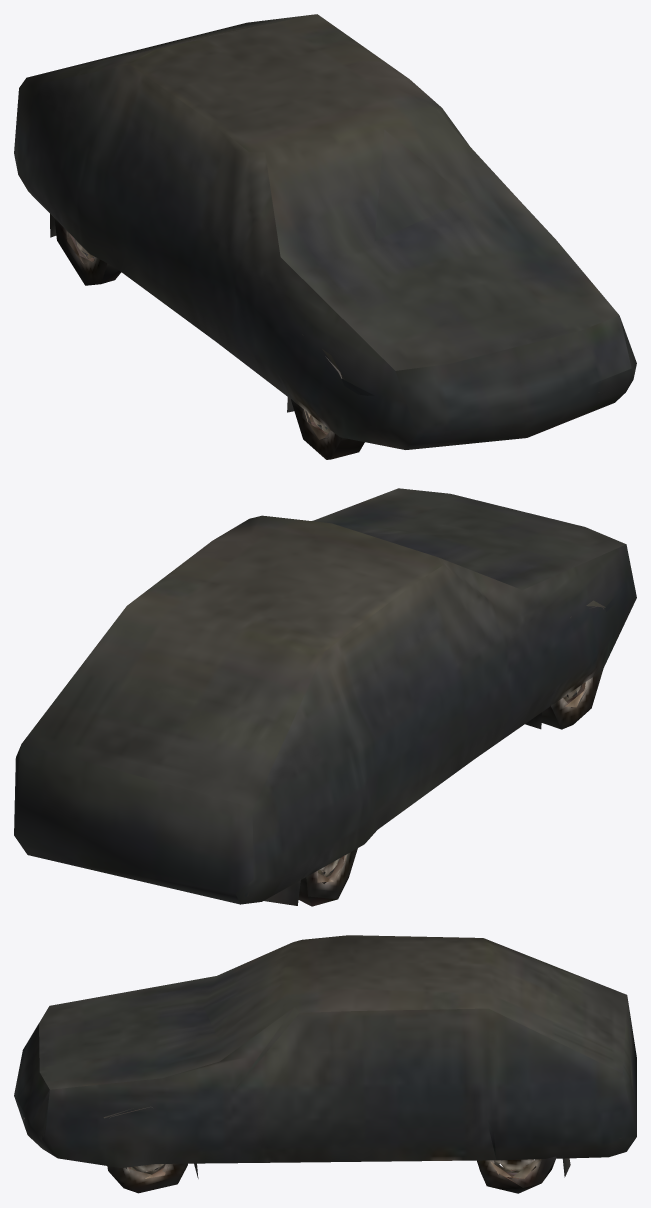
Rendered from covered_car.glb.
3 views of the same model, one above another, from view 1: azimuth 30°, elevation 25°; view 2: azimuth 150°, elevation 25°; view 3: azimuth 270°, elevation 25° (orthographic). The views are drawn at different scales.
Visible parts, largest first — view 1: covered_car; view 2: covered_car; view 3: covered_car.
Boxes of the visible parts, box(x1,y1,x2,y2) form: covered_car: box(14, 14, 636, 459); covered_car: box(14, 488, 636, 906); covered_car: box(14, 935, 636, 1193).
Bounding box in the file's own units: 1.8 × 1.41 × 4.38.
Materials: 1 (1 with a texture image).
